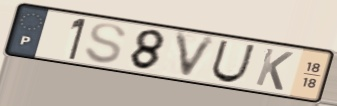1: (68, 17, 88, 62)
8: (126, 28, 169, 72)
K: (252, 46, 296, 93)
S: (82, 21, 129, 66)
U: (208, 39, 258, 84)
V: (172, 29, 221, 82)
